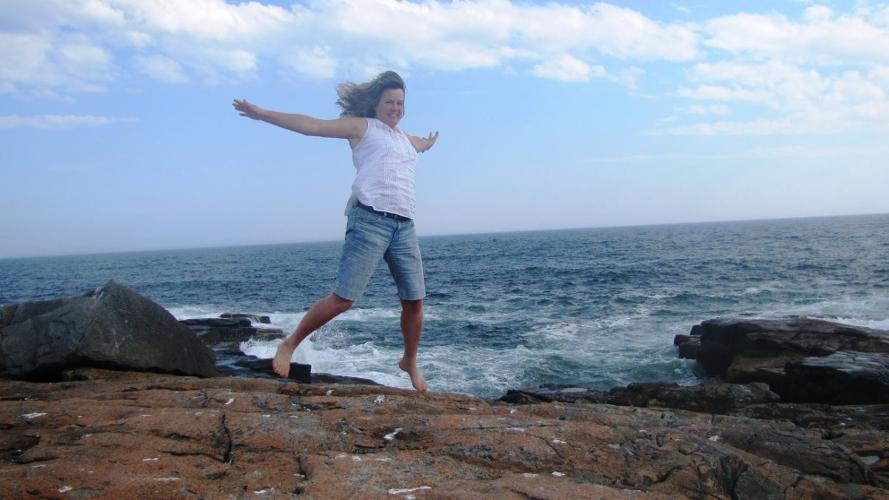person: (235, 68, 440, 396)
